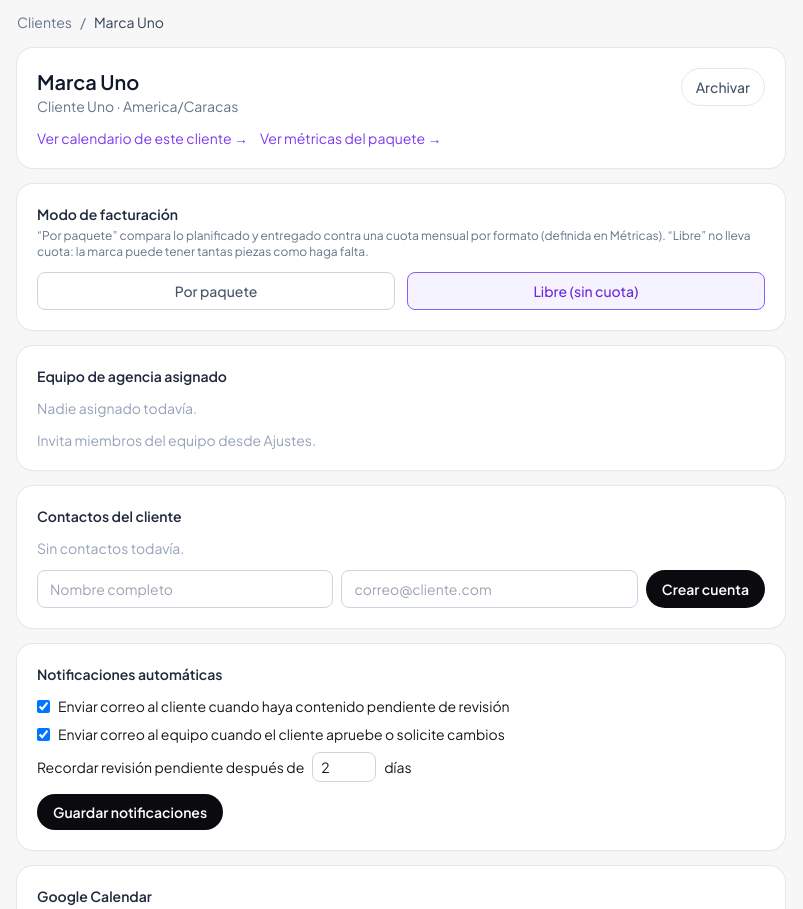
Test: ClientDetail — panel de la clave generada al crear un contacto › cuando la cuenta ya existía no muestra ninguna clave, solo que quedó vinculada a la marca
Type "Carla Cliente" into the field with placeholder "Nombre completo".
click(185, 589); type("Carla Cliente")  # box [37, 570, 333, 608]
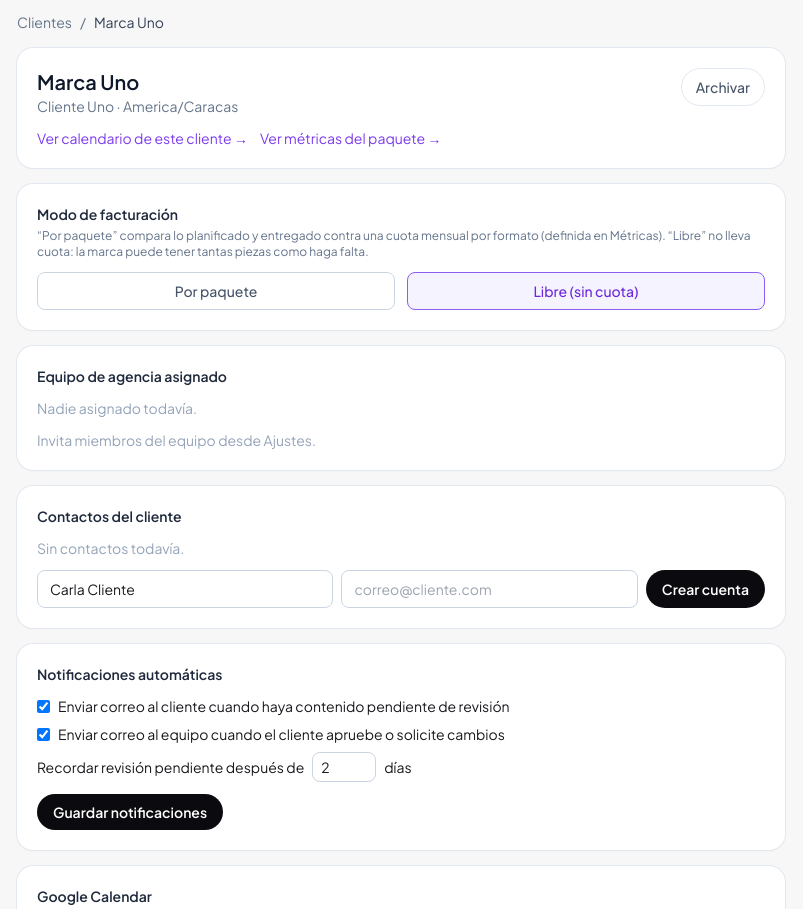
Type "repetido@cliente.test" into the field with placeholder "correo@cliente.com".
click(490, 589); type("repetido@cliente.test")  # box [341, 570, 638, 608]
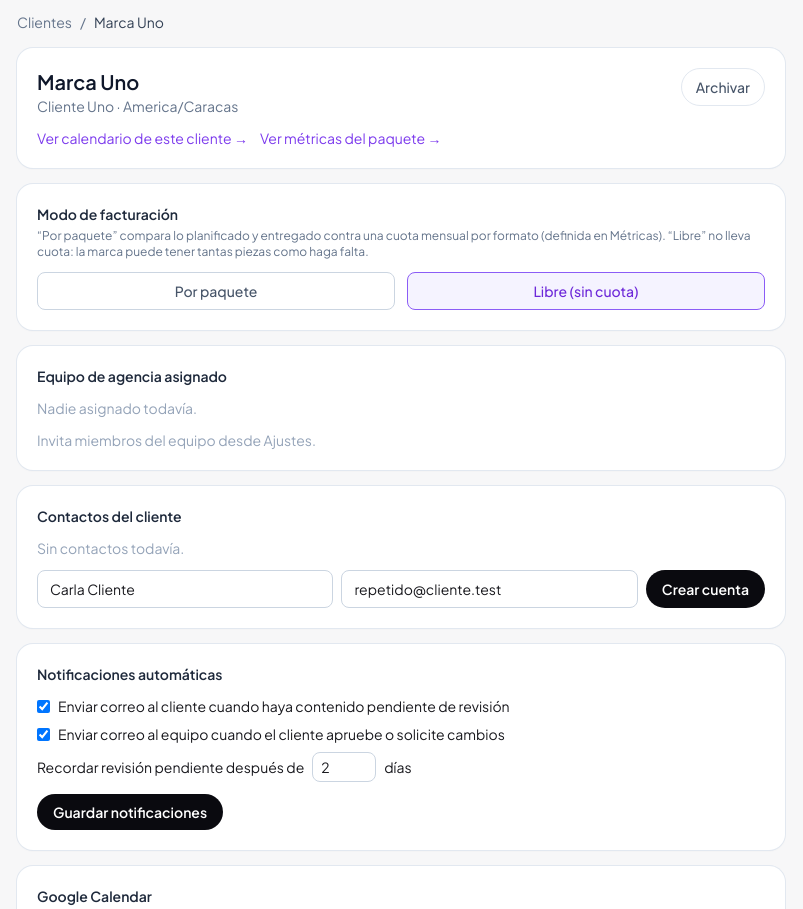
Click the button "Crear cuenta".
click(705, 589)  # box [646, 570, 765, 608]
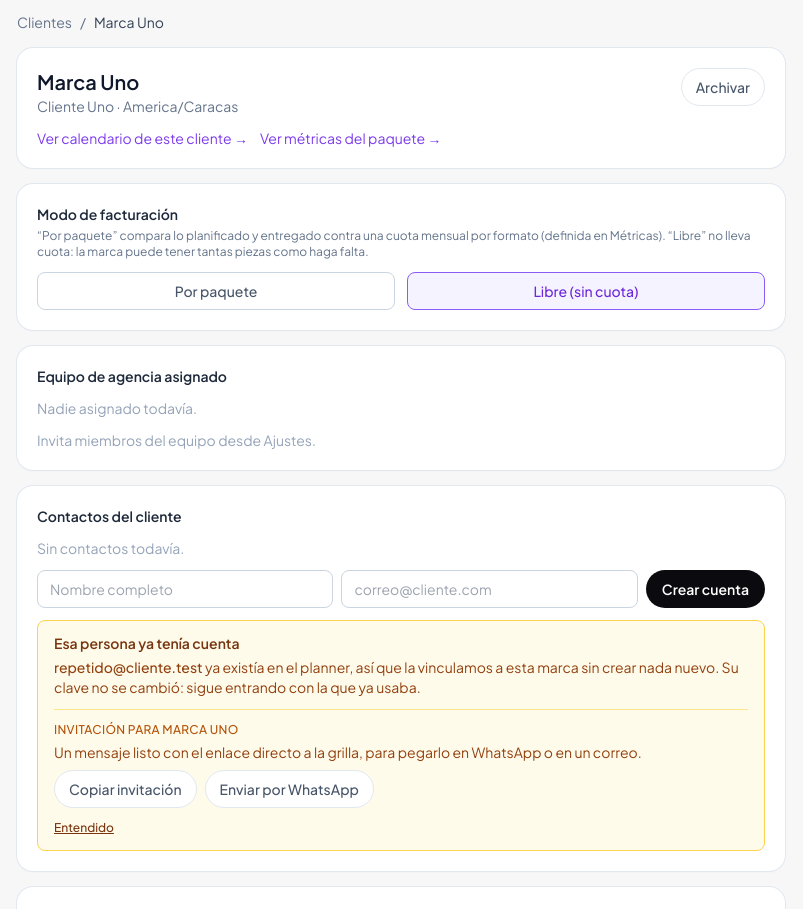
expect the text "Esa persona ya tenía cuenta" is shown: met, box [54, 634, 240, 652]
expect the text "su clave no se cambió" is shown: met, box [54, 658, 739, 696]
